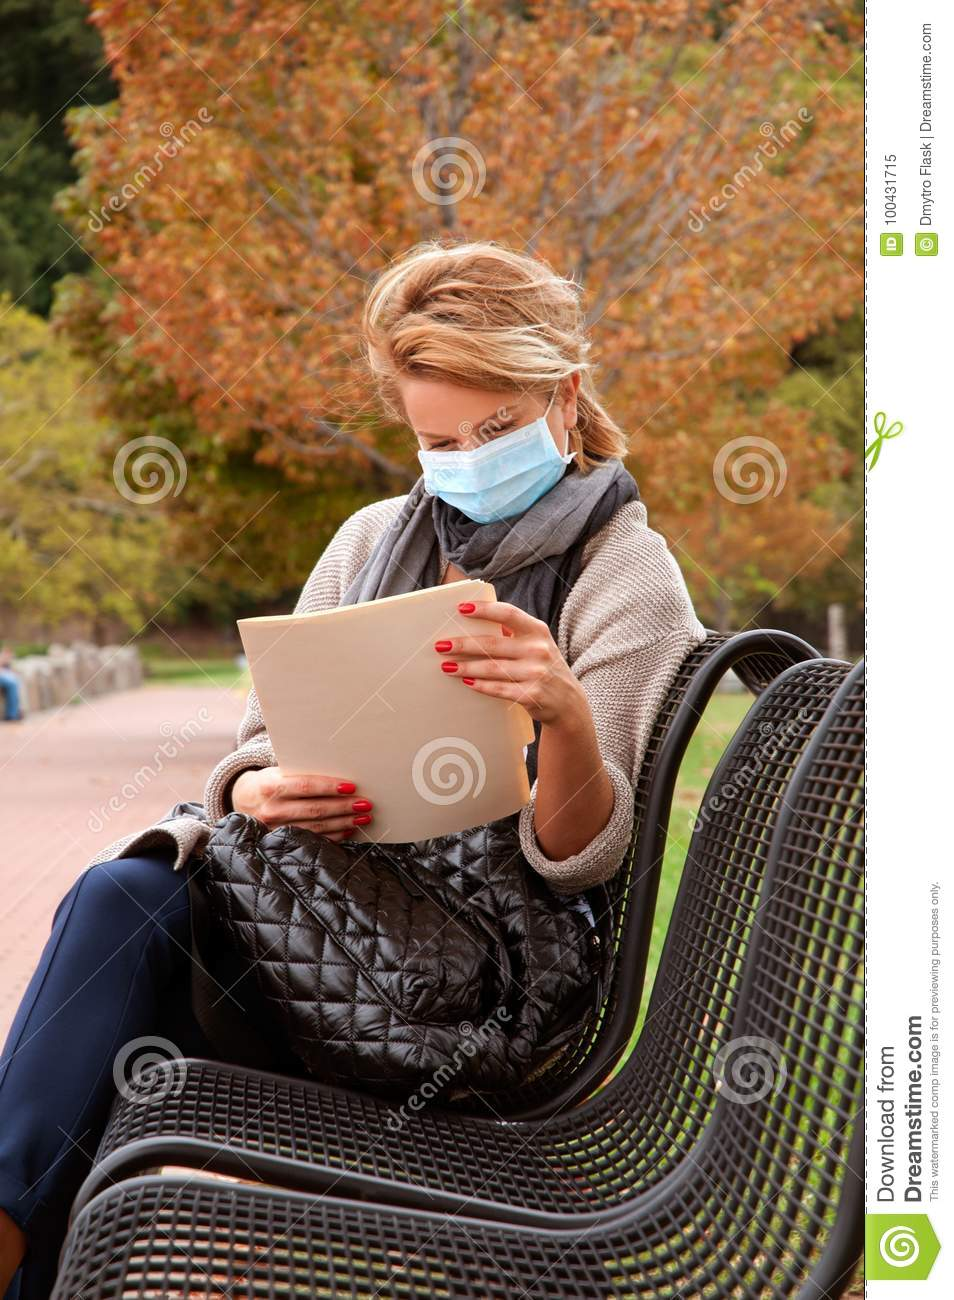mask: (426, 439, 567, 514)
